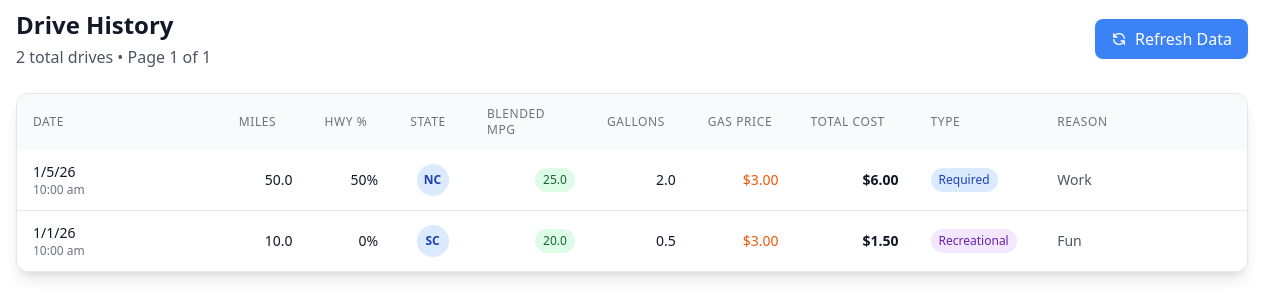
Test: sorting by miles ascending puts the smaller trip first
Check: the text "2 total drives • Page 1 of 1" is shown, box left=16, top=45, right=211, bottom=69
Click the text "Miles": click(258, 122) left=239, top=114, right=276, bottom=130
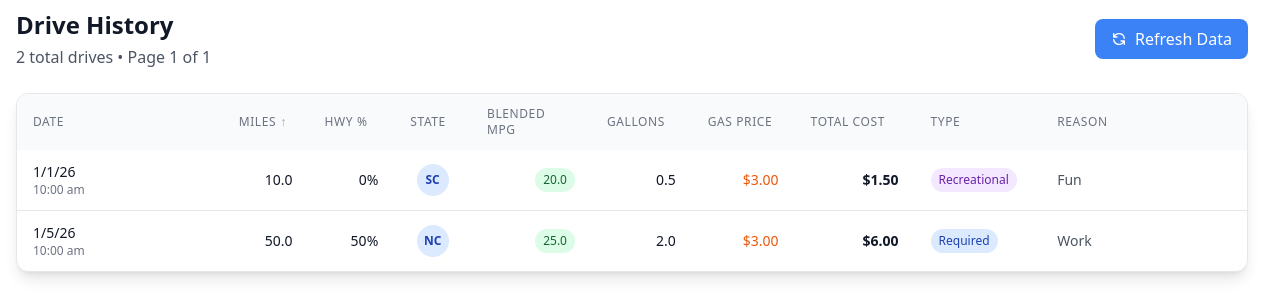
Check: the text "SC" is shown, box left=417, top=164, right=449, bottom=196
